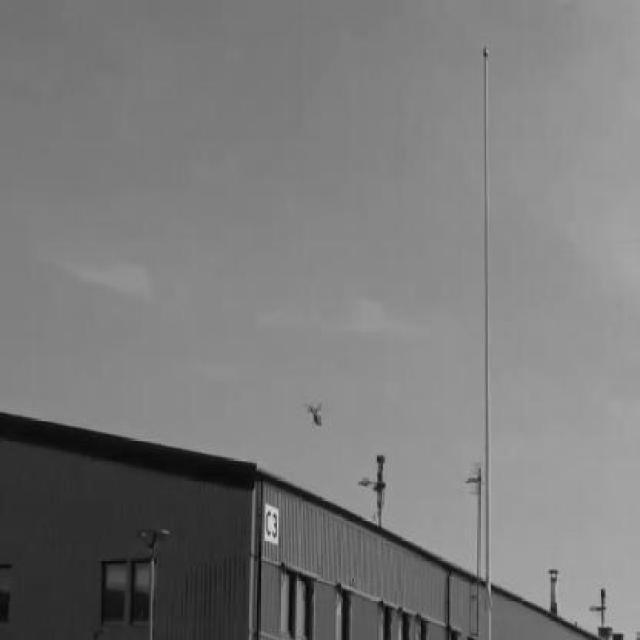helikopter: (300, 396, 331, 434)
